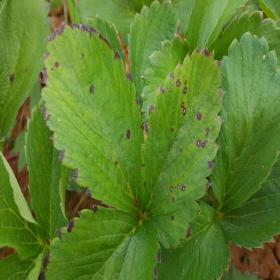Leaf Spot: (40, 22, 146, 215), (139, 45, 225, 252)
